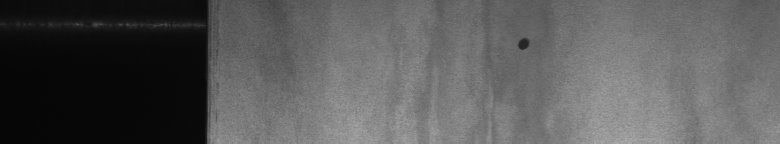fi: (431, 32, 552, 136)
